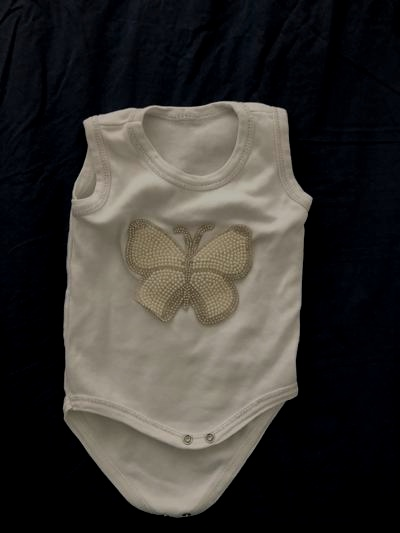Body: (38, 80, 327, 510)
